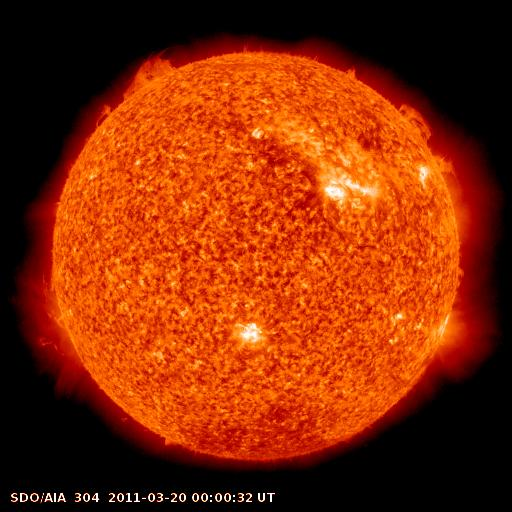prominence: (383, 92, 448, 151), (123, 44, 187, 102), (428, 152, 472, 201), (444, 254, 474, 305), (87, 99, 120, 132)
